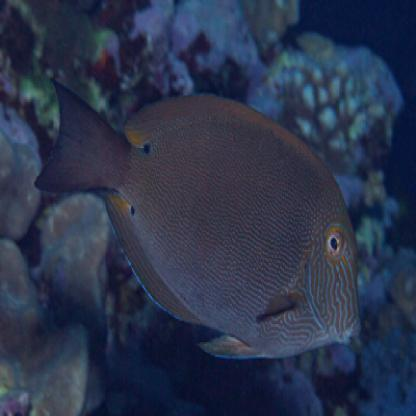Bio: (32, 74, 363, 360)
